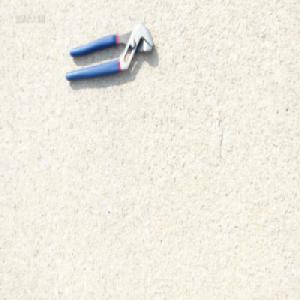Pliers: (64, 21, 154, 83)
